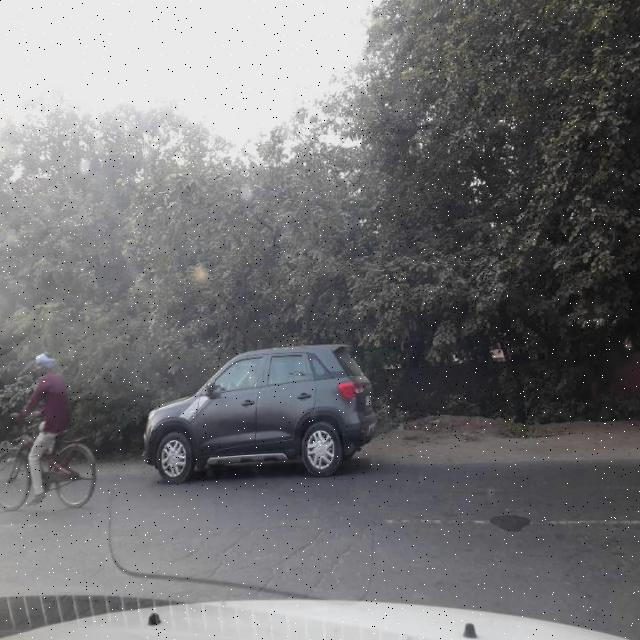D20: (106, 494, 383, 594)
D43: (261, 509, 639, 544)
